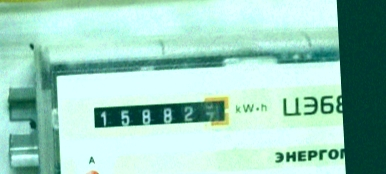1: (99, 109, 108, 125)
2: (182, 103, 193, 121)
5: (119, 108, 130, 124)
7: (205, 109, 214, 121)
8: (161, 105, 172, 123), (140, 108, 151, 124)
screen: (86, 90, 236, 137)
